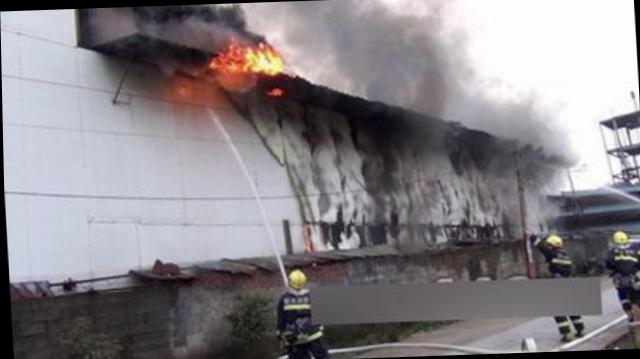fire: (210, 41, 283, 75)
